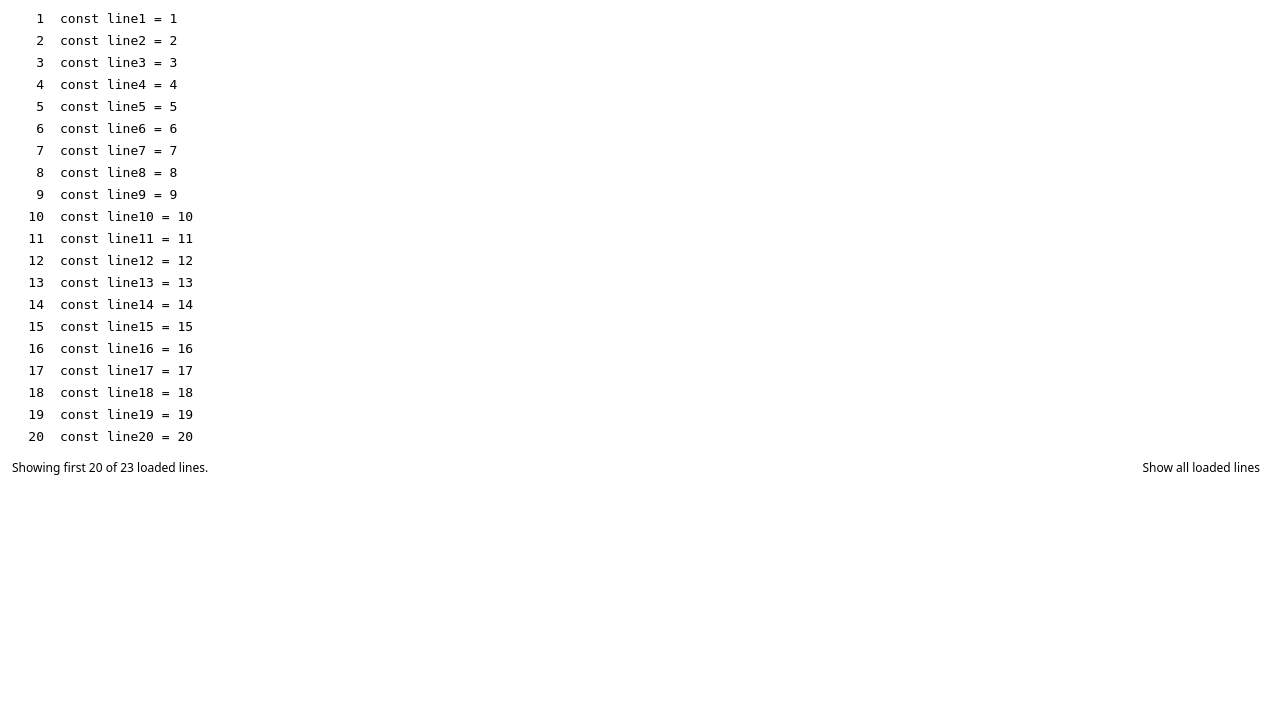
Test case: CodeSurface › caps a long preview and expands it on demand
Expected: the element with test id "workspace-code" does not show "const line21 = 21"
Expected: the text "Showing first 20 of 23 loaded lines." is shown, [12,460,208,476]
Step 1. Click the button "Show all loaded lines" → {"x": 1201, "y": 468}, box [1134,456,1268,480]
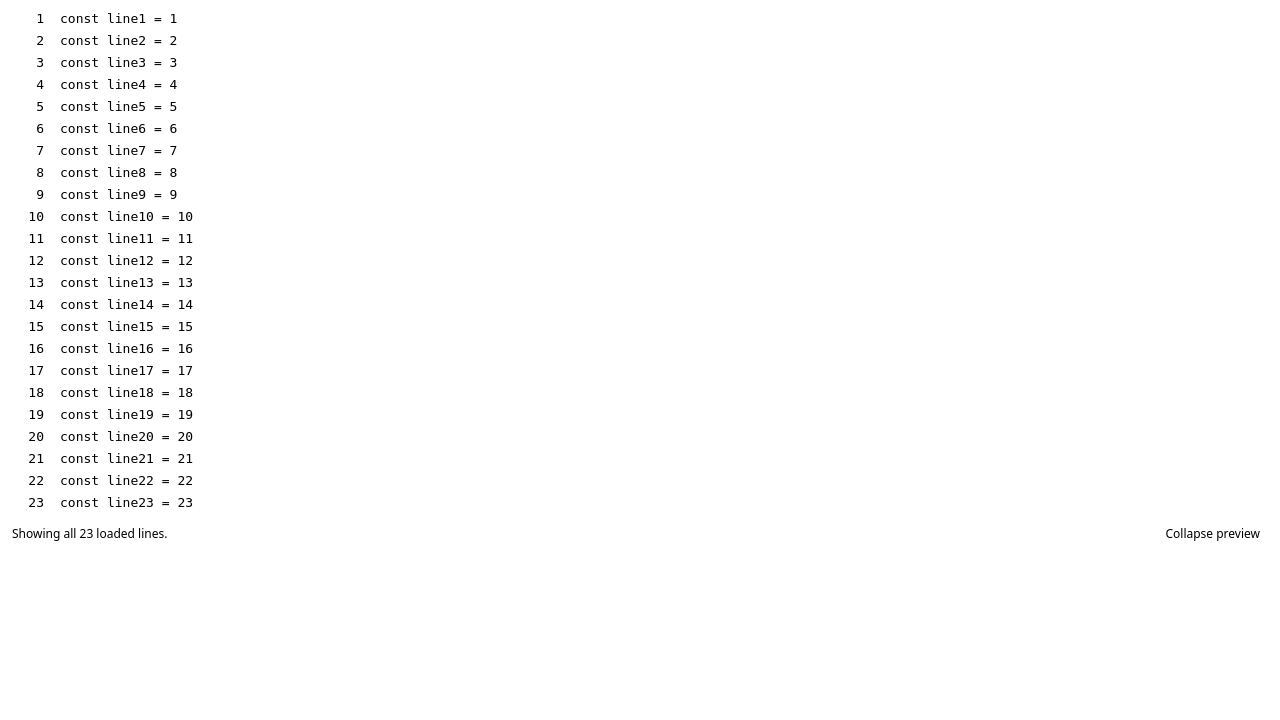
Expected: the element with test id "workspace-code" shows "const line23 = 23", [60,495,193,510]
Expected: the text "Showing all 23 loaded lines." is shown, [12,526,167,542]
Step 2. Click the button "Collapse preview" → {"x": 1213, "y": 534}, box [1157,522,1268,546]
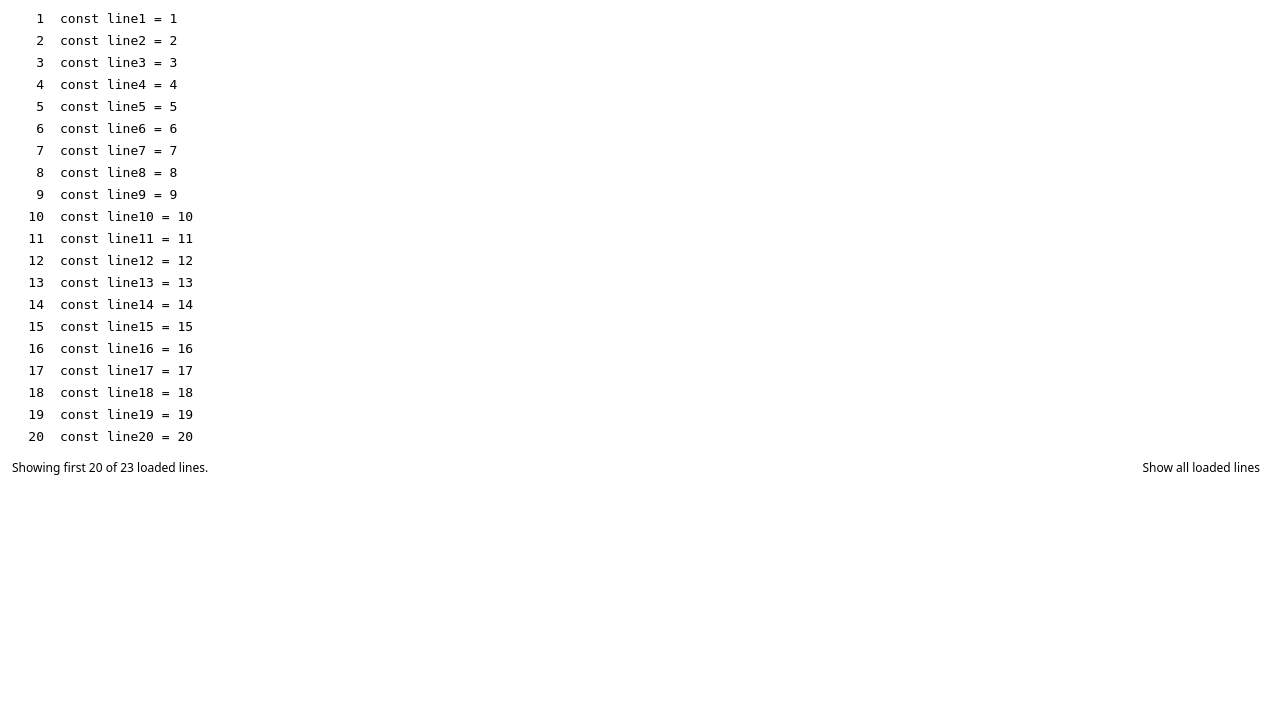
Expected: the text with test id "workspace-code" no longer shows "const line23 = 23"
